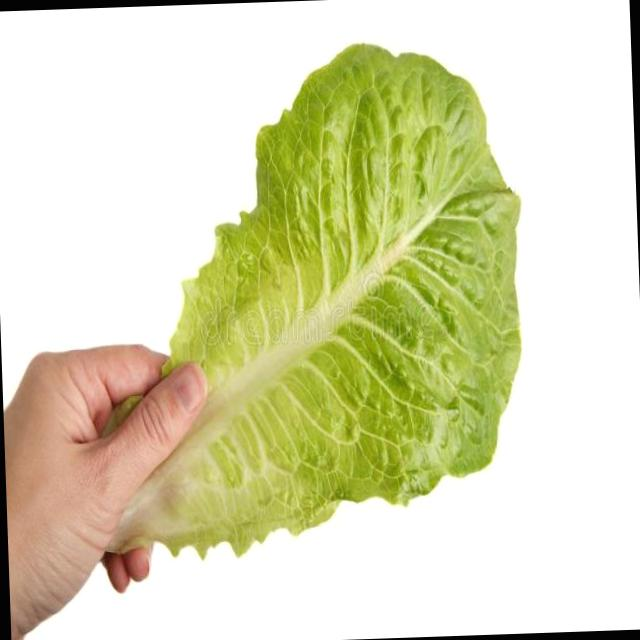Lettuce-Ready-to-Harvest: (116, 45, 520, 553)
